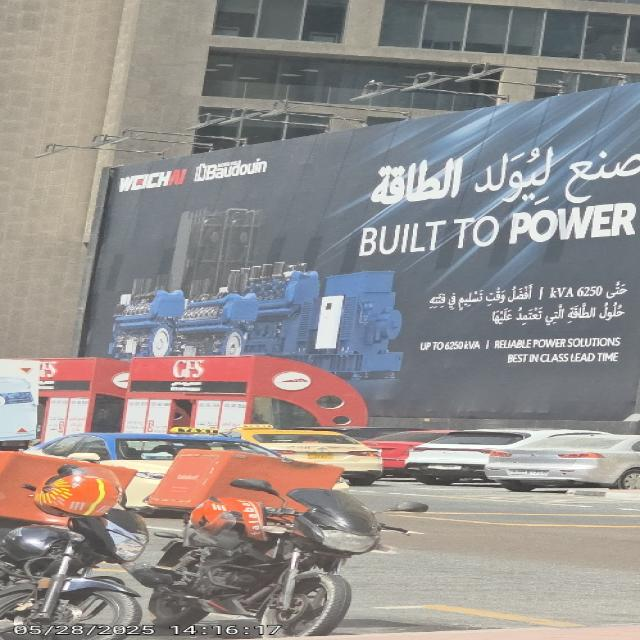poster: (81, 81, 639, 392)
